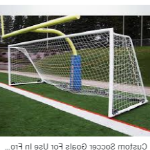goals: (7, 26, 149, 119)
